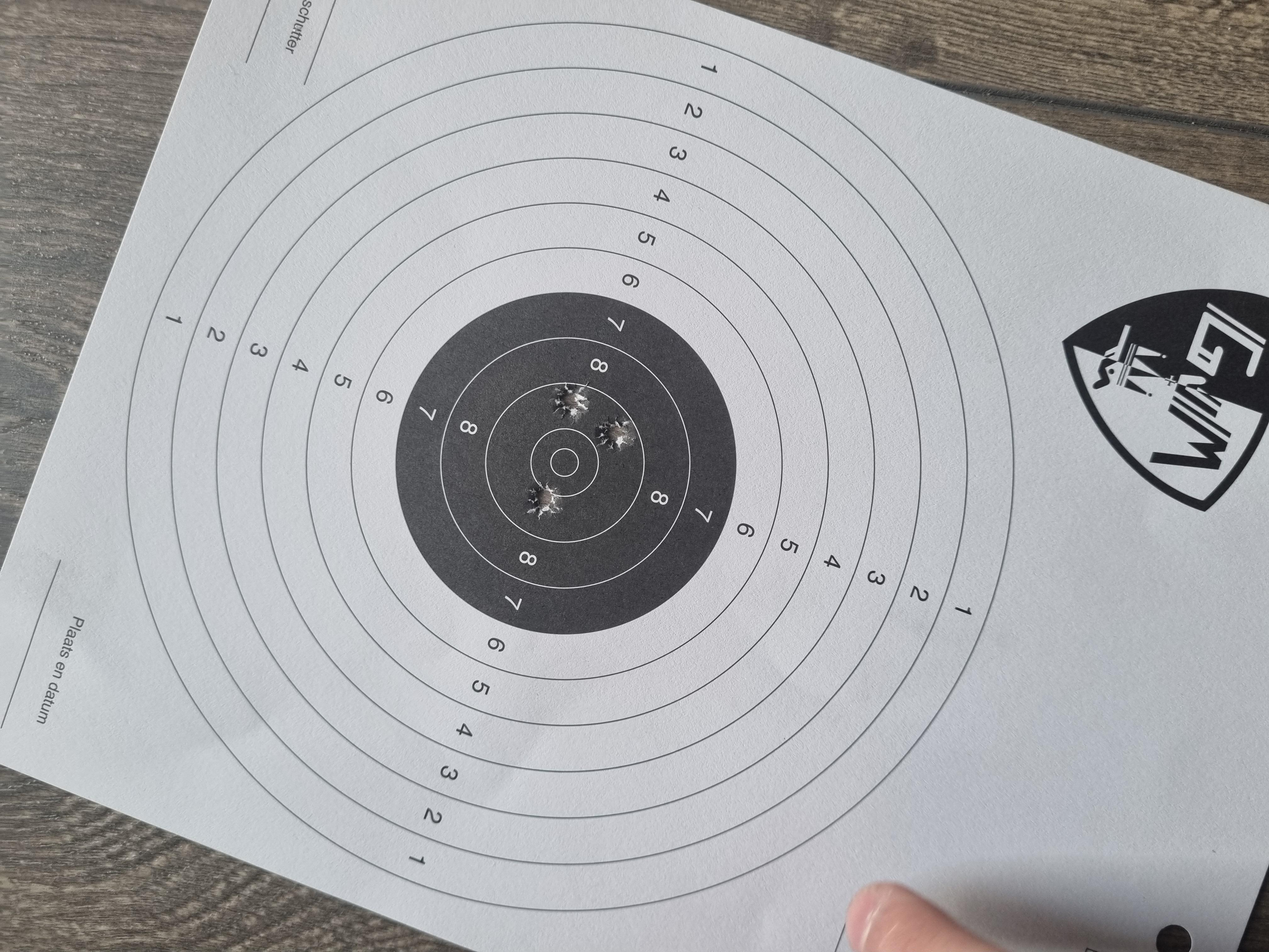hole: (661, 448, 715, 483), (711, 416, 759, 448), (580, 398, 631, 427)
